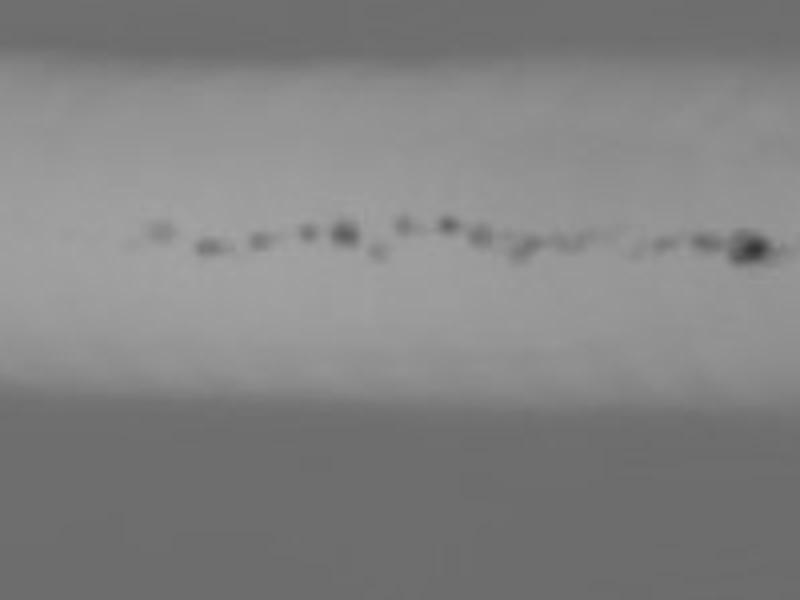defect: (720, 228, 768, 265), (550, 225, 594, 259), (628, 231, 673, 261), (136, 212, 177, 243), (193, 230, 233, 258), (686, 228, 719, 254), (390, 210, 420, 238), (251, 226, 279, 255), (332, 217, 360, 244), (467, 221, 492, 246), (363, 238, 387, 262), (295, 220, 322, 241), (524, 230, 543, 256), (433, 216, 460, 234), (511, 242, 528, 266)
